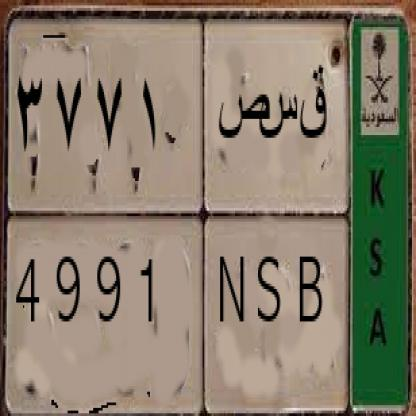english: (10, 193, 353, 405)
